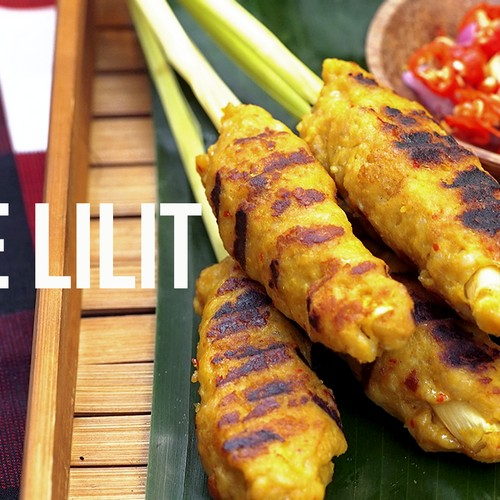sate lilit: (202, 9, 396, 393)
